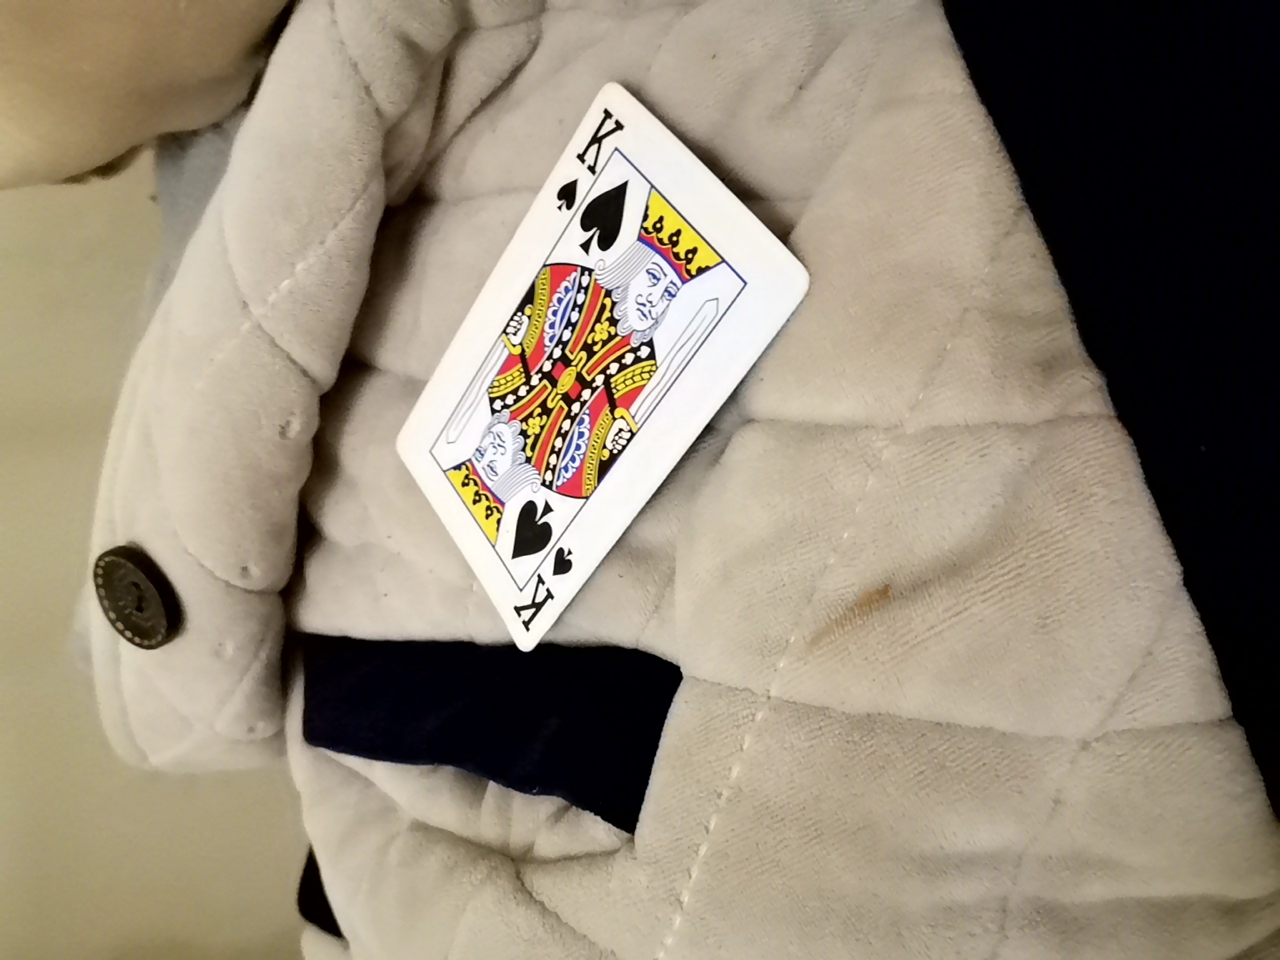ht k: (372, 83, 790, 659)
